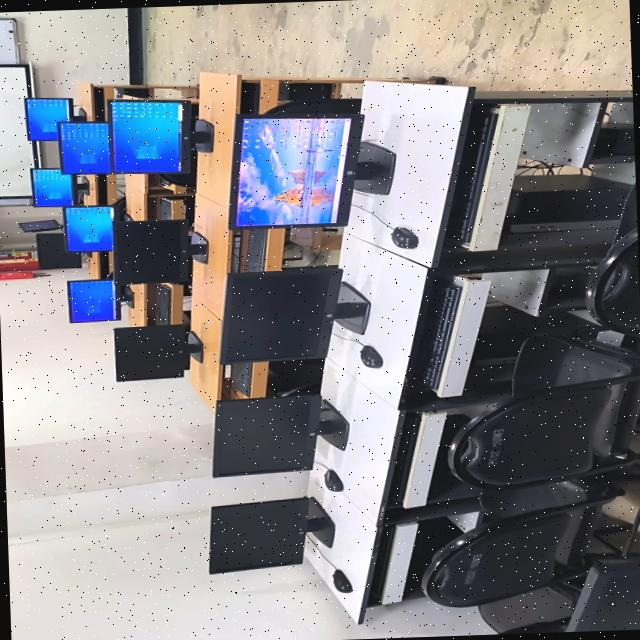Chair: (448, 329, 640, 488), (422, 472, 624, 606), (585, 180, 640, 334), (478, 579, 580, 634), (264, 97, 360, 114)
Cpu: (467, 304, 594, 381), (505, 173, 631, 232)
Fire Extinguisher: (0, 258, 39, 270), (0, 246, 36, 257)
Keyboard: (445, 105, 498, 245), (413, 277, 462, 390), (245, 227, 266, 270), (230, 361, 253, 395)
Monitor: (228, 111, 393, 228), (219, 265, 369, 363), (57, 98, 213, 173), (212, 392, 348, 475), (209, 495, 334, 572), (114, 218, 208, 283), (565, 554, 640, 632), (114, 323, 202, 380), (57, 120, 109, 173), (24, 97, 86, 139), (31, 167, 88, 206), (64, 205, 113, 250), (66, 279, 116, 321), (37, 231, 81, 268), (18, 218, 61, 231)
Mouse: (390, 225, 418, 247), (360, 344, 382, 367), (332, 568, 351, 591), (325, 468, 343, 490)
